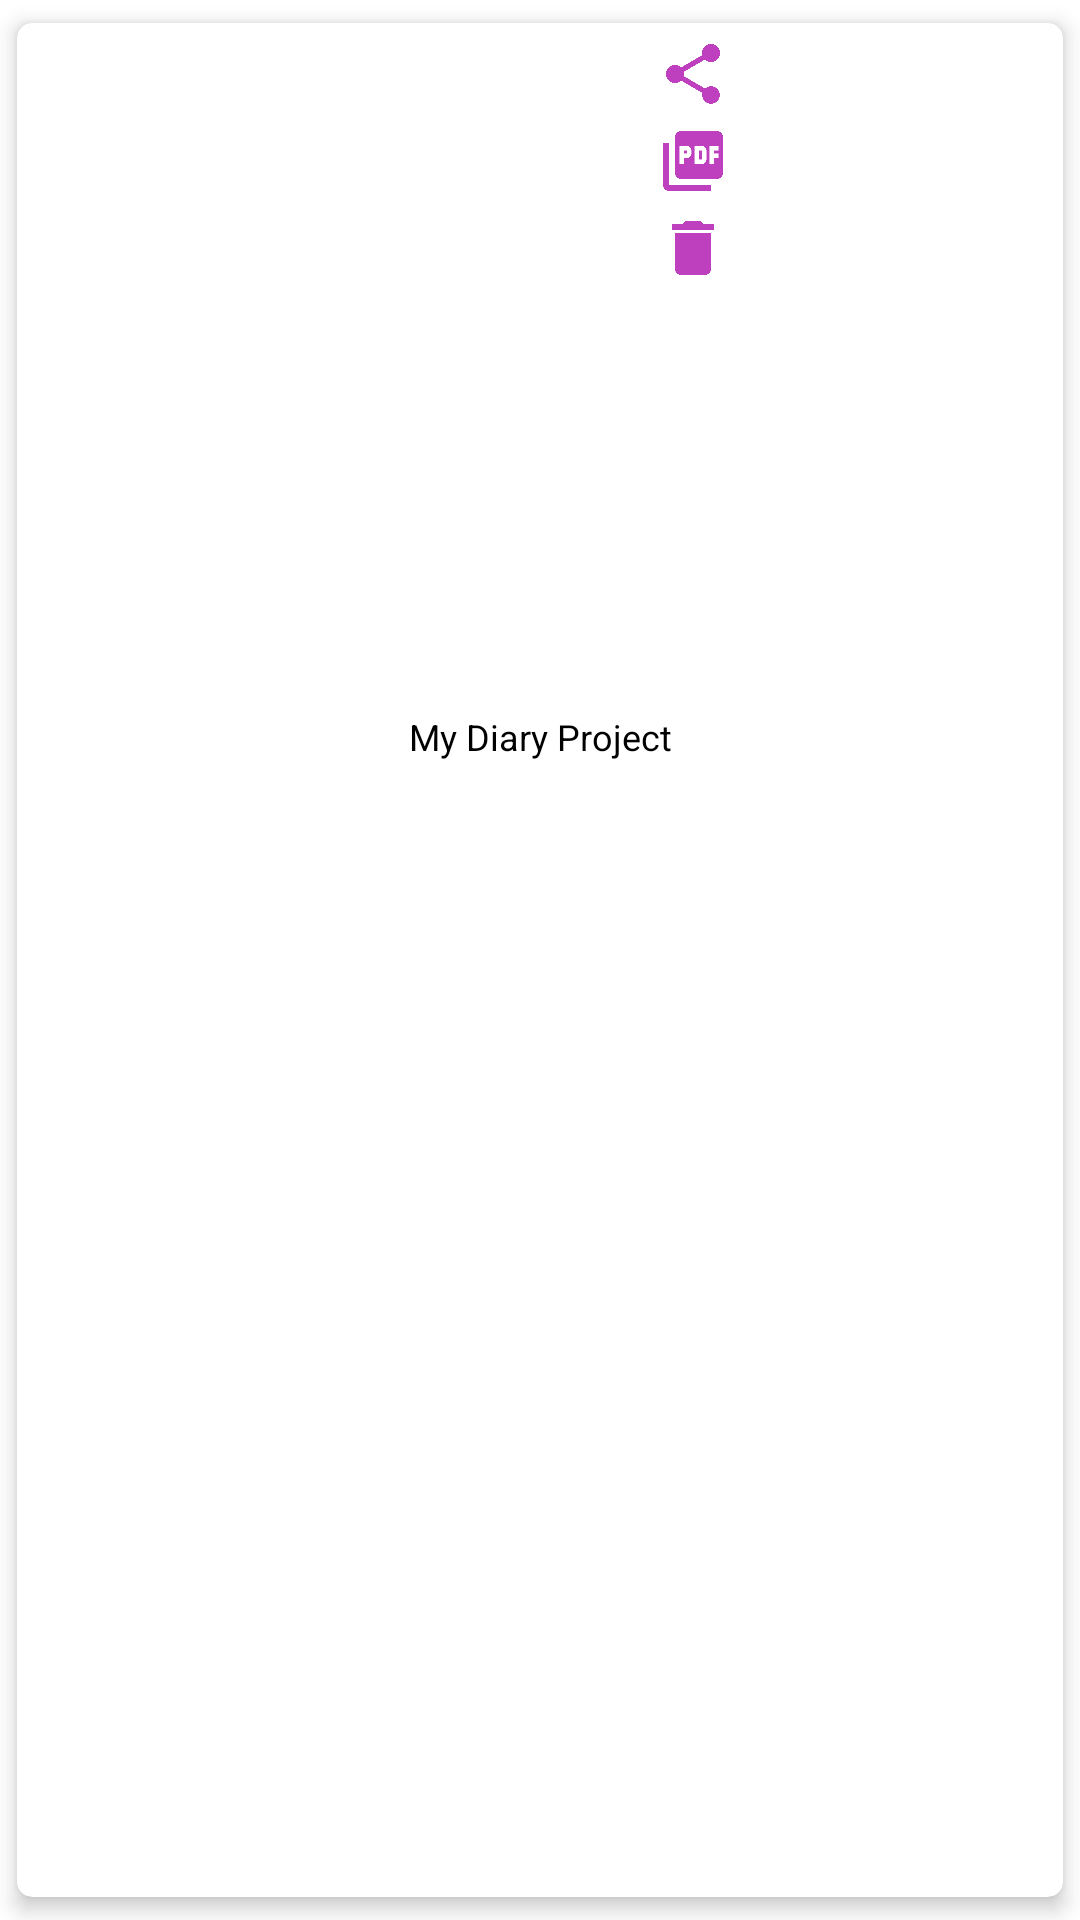

Icons on this 1080*1920 Android screen, each with the point to tap as [x,y]:
share: [693,74]
